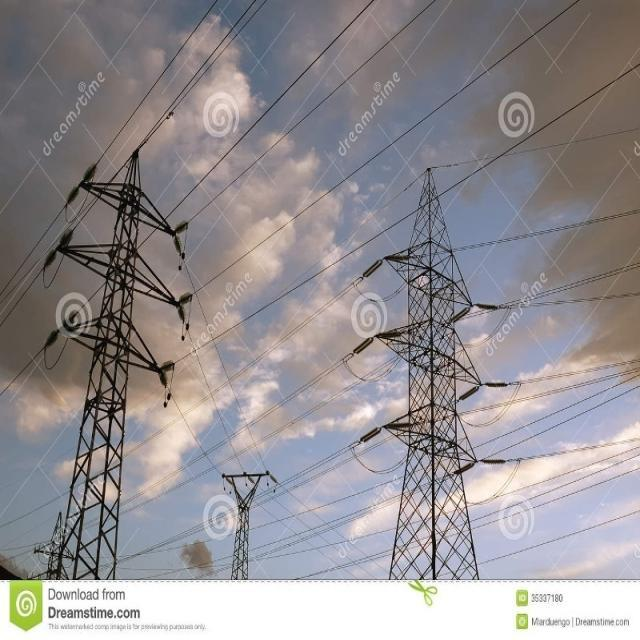non-critical vegetation: (36, 125, 194, 566), (348, 155, 495, 574), (224, 459, 268, 576)
